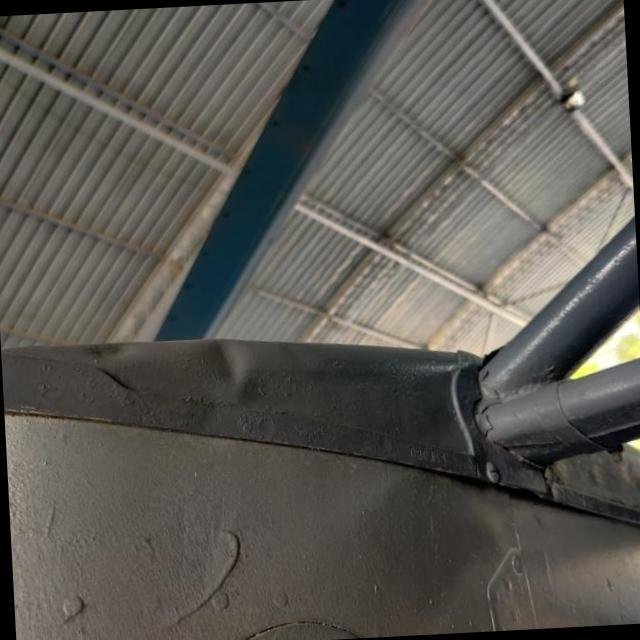Dent: (193, 330, 260, 401), (82, 332, 134, 372)
